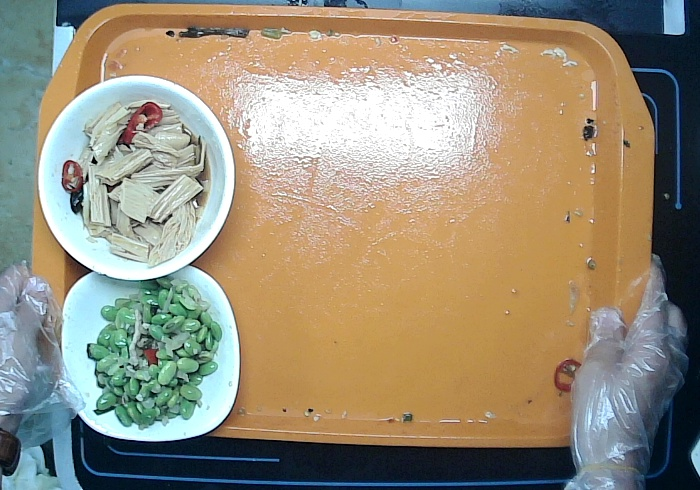ZNLD-Si_Fang_Wan: (52, 259, 244, 447)
ZNLD-Tang_Wan: (34, 72, 238, 283)
